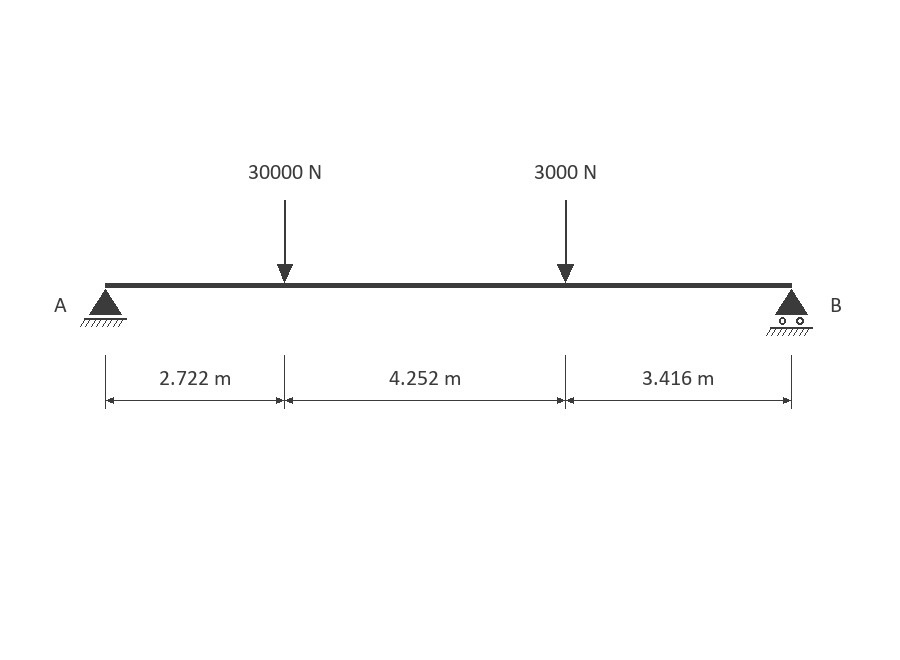pin_support: (80, 289, 127, 327)
point_load: (557, 200, 574, 283), (277, 200, 293, 283)
roller_support: (766, 289, 813, 336)
